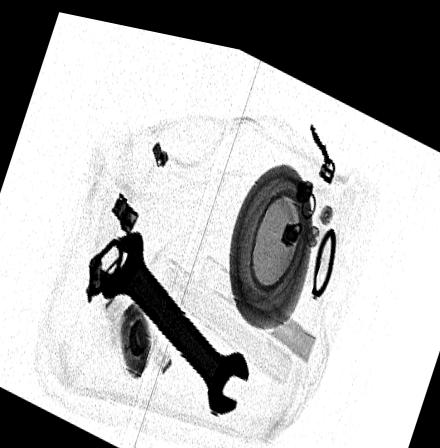Wrench: (92, 221, 247, 408)
